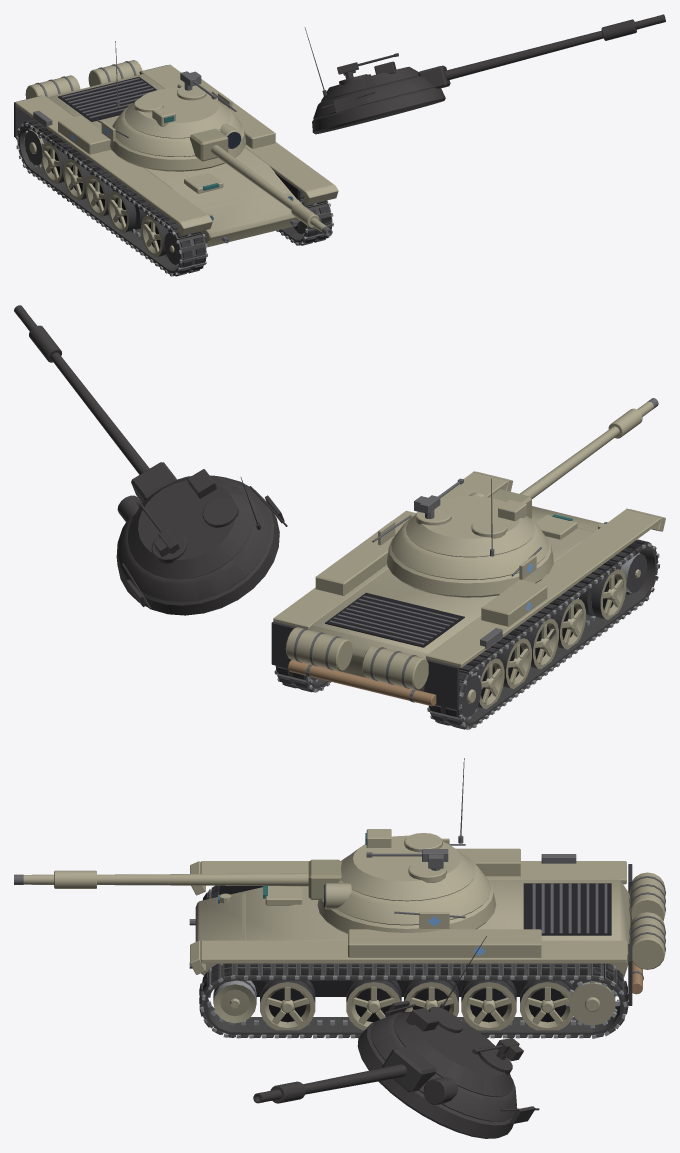
The model's file is tank__t_55_t_62.glb.
3 views of the same model, one above another, from view 1: azimuth 30°, elevation 25°; view 2: azimuth 150°, elevation 25°; view 3: azimuth 270°, elevation 25° (orthographic). The views are drawn at different scales.
Visible parts, largest first — view 1: Hull_Mesh, Wreck, Turret_Mesh, Track_L_Mesh, Gun_Mesh, Wheel_L3_Mesh, Track_R_Mesh, Wheel_L4_Mesh, Wheel_L2_Mesh, Wheel_L1_Mesh, Wheel_L0_Mesh, Sprocket_L_Mesh; view 2: Hull_Mesh, Wreck, Turret_Mesh, Track_L_Mesh, Gun_Mesh, Wheel_L4_Mesh, Wheel_L1_Mesh, Wheel_L3_Mesh, Wheel_L2_Mesh, Wheel_L0_Mesh, Idler_L_Mesh, Track_R_Mesh (+1 smaller); view 3: Hull_Mesh, Wreck, Track_R_Mesh, Turret_Mesh, Gun_Mesh, Wheel_R1_Mesh, Wheel_R4_Mesh, Wheel_R0_Mesh, Wheel_R3_Mesh, Sprocket_R_Mesh, Idler_R_Mesh, Wheel_R2_Mesh (+3 smaller).
Boxes of the visible parts, x1,y1,x2,y2 form: Hull_Mesh: (14,60,338,246); Wreck: (17,14,665,276); Turret_Mesh: (97,88,246,171); Track_L_Mesh: (16,120,207,276); Gun_Mesh: (190,128,332,236); Wheel_L3_Mesh: (107,191,146,232); Track_R_Mesh: (276,191,333,245); Wheel_L4_Mesh: (141,215,170,257); Wheel_L2_Mesh: (85,174,114,216); Wheel_L1_Mesh: (63,158,92,200); Wheel_L0_Mesh: (41,142,70,183); Sprocket_L_Mesh: (24,128,47,167); Hull_Mesh: (271,471,665,709); Wreck: (14,305,659,728); Turret_Mesh: (372,492,553,597); Track_L_Mesh: (427,539,659,729); Gun_Mesh: (489,398,658,518); Wheel_L4_Mesh: (578,569,626,619); Wheel_L1_Mesh: (496,638,531,688); Wheel_L3_Mesh: (550,598,585,649); Wheel_L2_Mesh: (523,618,558,669); Wheel_L0_Mesh: (476,658,504,709); Idler_L_Mesh: (617,553,647,593); Track_R_Mesh: (274,665,330,692); Hull_Mesh: (189,848,665,1005); Wreck: (199,885,627,1138); Track_R_Mesh: (199,963,628,1038); Turret_Mesh: (317,835,496,933); Gun_Mesh: (14,859,341,899); Wheel_R1_Mesh: (461,980,516,1030); Wheel_R4_Mesh: (260,980,315,1030); Wheel_R0_Mesh: (520,980,573,1030); Wheel_R3_Mesh: (346,980,401,1030); Sprocket_R_Mesh: (565,980,619,1028); Idler_R_Mesh: (213,980,256,1023); Wheel_R2_Mesh: (404,980,458,1016).
Size of what is drawn, in the model's own units: 11.05 by 3.32 by 9.43.
